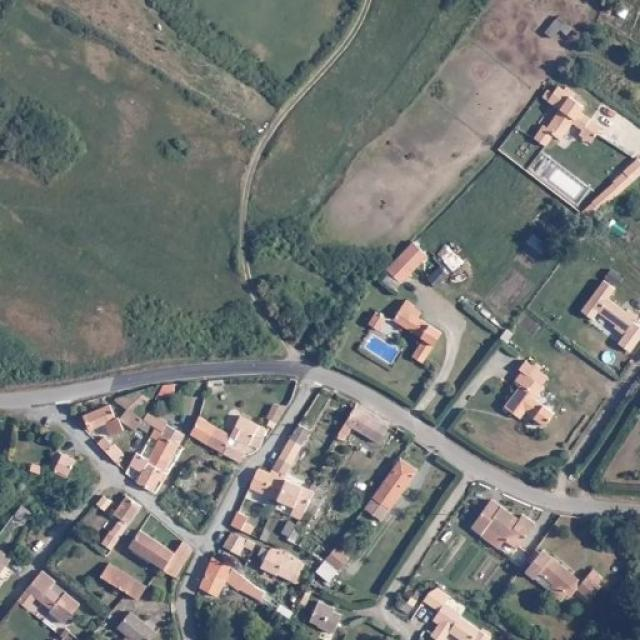maison: (537, 68, 640, 212), (100, 413, 182, 499), (101, 511, 190, 580), (367, 439, 431, 521), (13, 567, 84, 631), (414, 582, 490, 640), (190, 401, 268, 457), (523, 546, 607, 596), (198, 552, 274, 604), (501, 359, 556, 430), (580, 282, 637, 348), (246, 462, 309, 520), (471, 500, 544, 550), (394, 296, 448, 358), (90, 557, 152, 601), (336, 401, 396, 437), (380, 246, 428, 287), (210, 519, 260, 553), (75, 406, 123, 437), (307, 598, 345, 631), (4, 433, 38, 461)
piscine: (359, 334, 398, 368), (520, 594, 540, 609)
